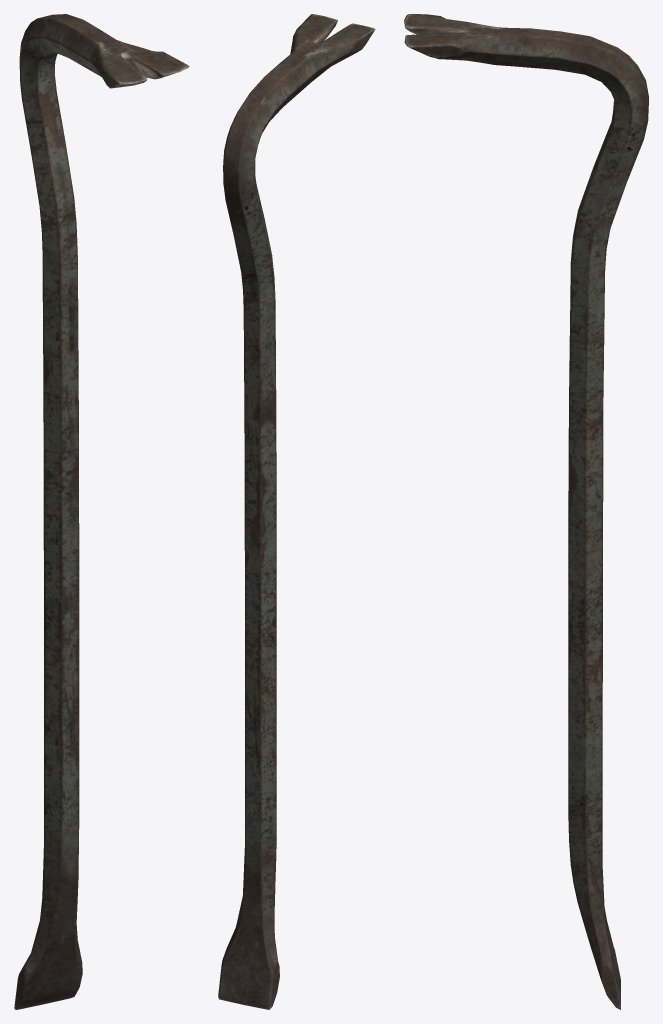
Rendered from crowbar_01.glb.
3 renders of one model, left to right at view 1: azimuth 30°, elevation 25°; view 2: azimuth 150°, elevation 25°; view 3: azimuth 270°, elevation 25°, orthographic. The views are drawn at different scales.
Parts seen in each view (by area): view 1: crowbar_01; view 2: crowbar_01; view 3: crowbar_01.
Boxes of the visible parts, left/top/right/bottom form: crowbar_01: left=14, top=14, right=189, bottom=1009; crowbar_01: left=218, top=14, right=375, bottom=1009; crowbar_01: left=404, top=14, right=648, bottom=1009.
Size of the model in its own units: 0.0404 by 0.5553 by 0.1274.
Materials: 1 (1 with a texture image).
